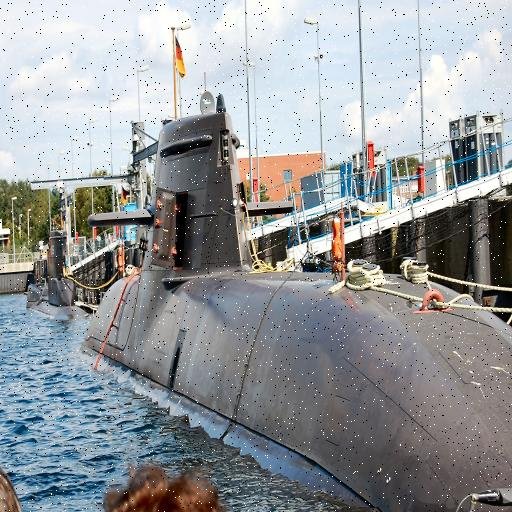submarine: (79, 1, 512, 512)
